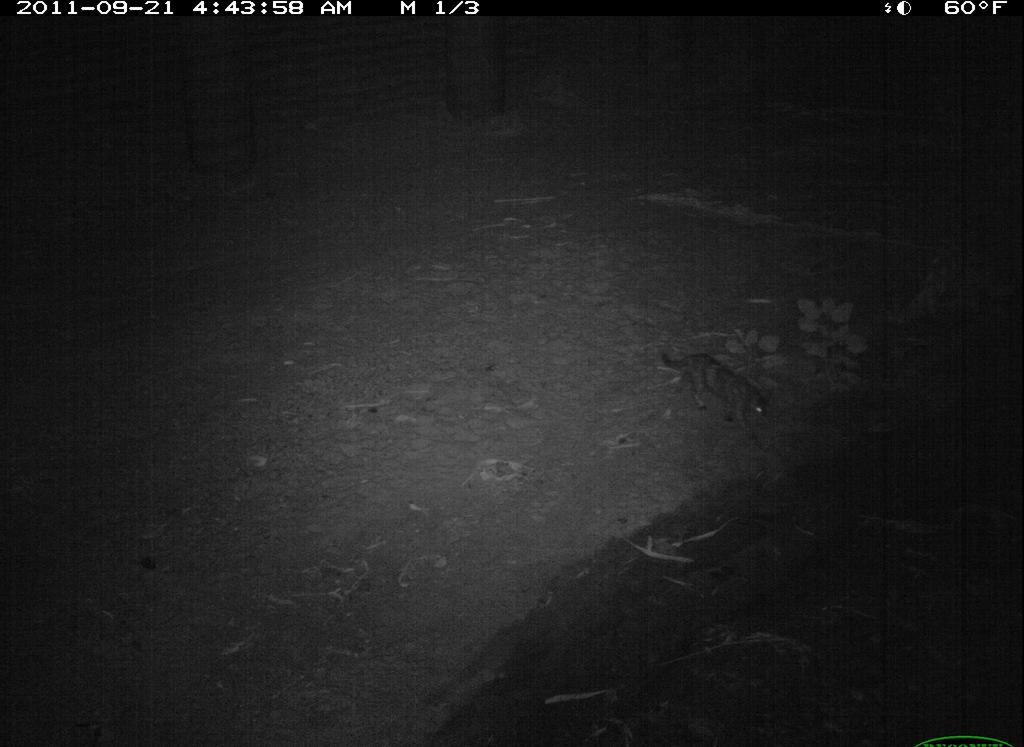cat: (664, 338, 786, 455)
